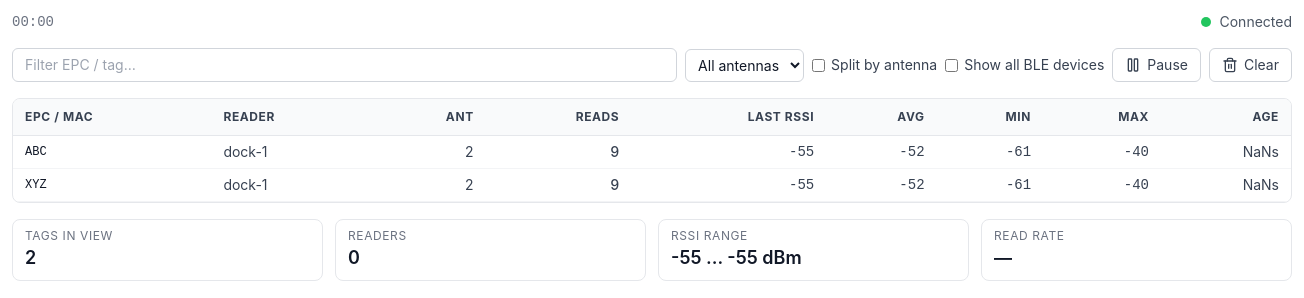
Test: LiveReadsFeed › filters rows by an EPC/alias substring
Check: the text "ABC" is shown, box [13, 136, 211, 168]
Check: the text "XYZ" is shown, box [13, 168, 211, 202]
Type "abc" into the search field with placeholder "Filter EPC / tag…" at (345, 65), box [12, 48, 677, 82]
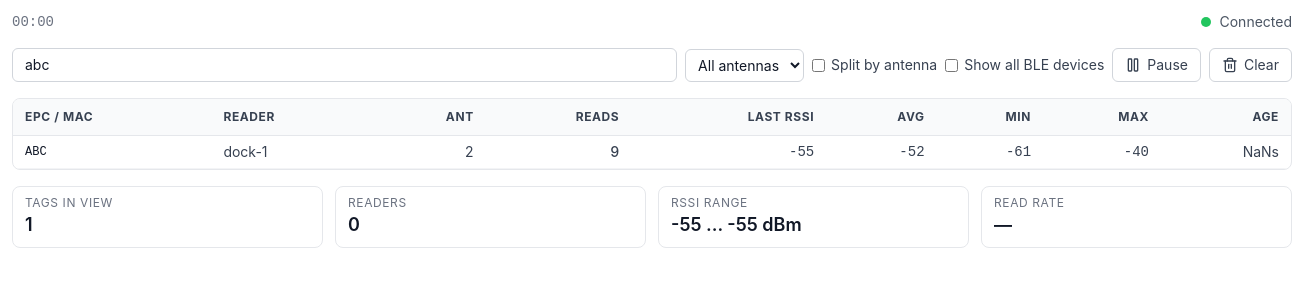
Check: the text "ABC" is shown, box [13, 136, 211, 168]
Check: the text "XYZ" is gone
